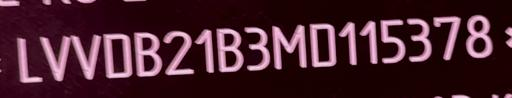letter: (268, 19, 312, 75), (428, 10, 466, 64), (36, 31, 74, 85), (160, 27, 198, 79), (131, 27, 165, 83), (401, 12, 437, 64), (212, 24, 246, 78), (69, 30, 105, 81), (459, 12, 497, 59), (11, 31, 45, 83), (102, 28, 134, 83), (306, 19, 340, 69), (240, 23, 274, 73), (376, 16, 408, 66), (335, 18, 363, 72), (191, 24, 217, 76), (358, 16, 380, 68)
